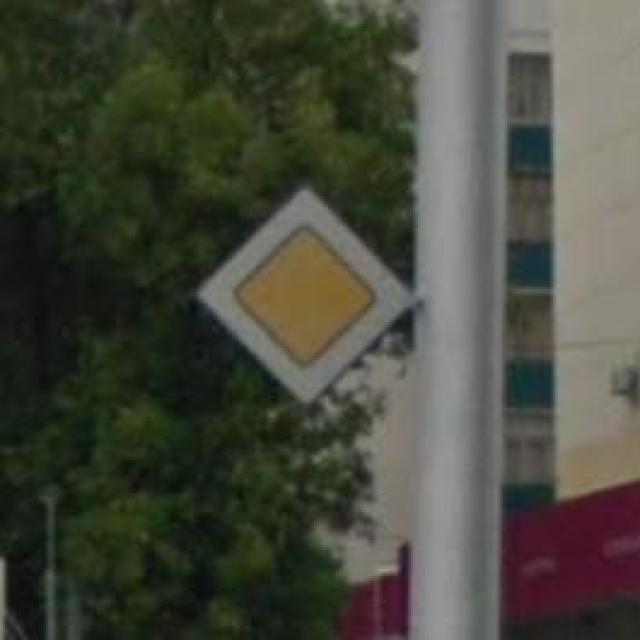Droga z pierwszenstwem: (191, 185, 425, 410)
